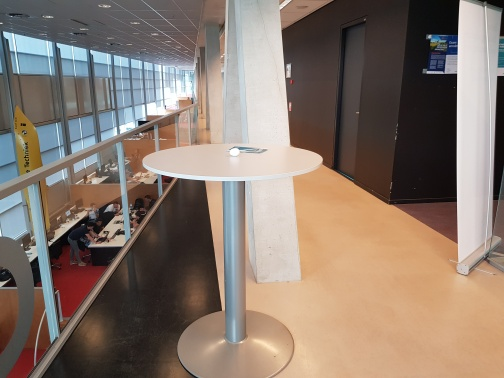egg: (227, 147, 241, 157)
